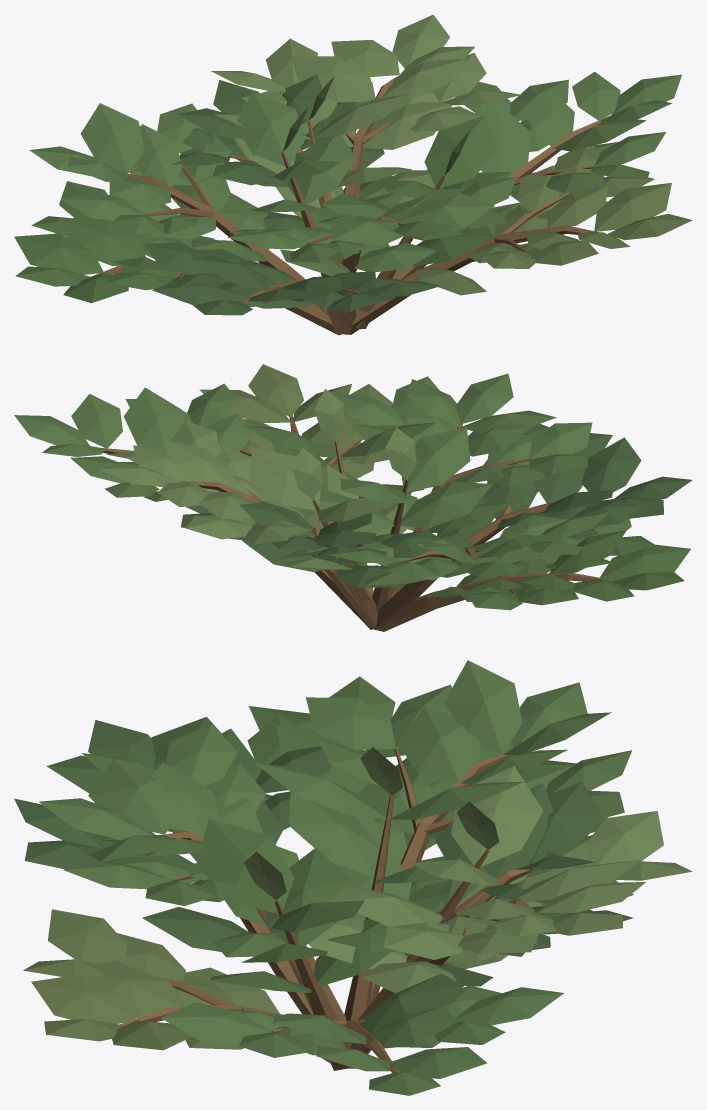
Rendered from SM_BushSpreading.fbx.
The picture shows the model from 3 angles, top to bottom: view 1: azimuth 30°, elevation 25°; view 2: azimuth 150°, elevation 25°; view 3: azimuth 270°, elevation 25°; orthographic projection. The views are drawn at different scales.
Parts seen in each view (by area): view 1: SM_BushSpreading; view 2: SM_BushSpreading; view 3: SM_BushSpreading.
Part boxes in pixels (<box>): SM_BushSpreading: <box>14,14,692,335</box>; SM_BushSpreading: <box>14,364,692,631</box>; SM_BushSpreading: <box>14,660,692,1095</box>.
Size of the model in its own units: 2.09 by 1.34 by 0.6613.
